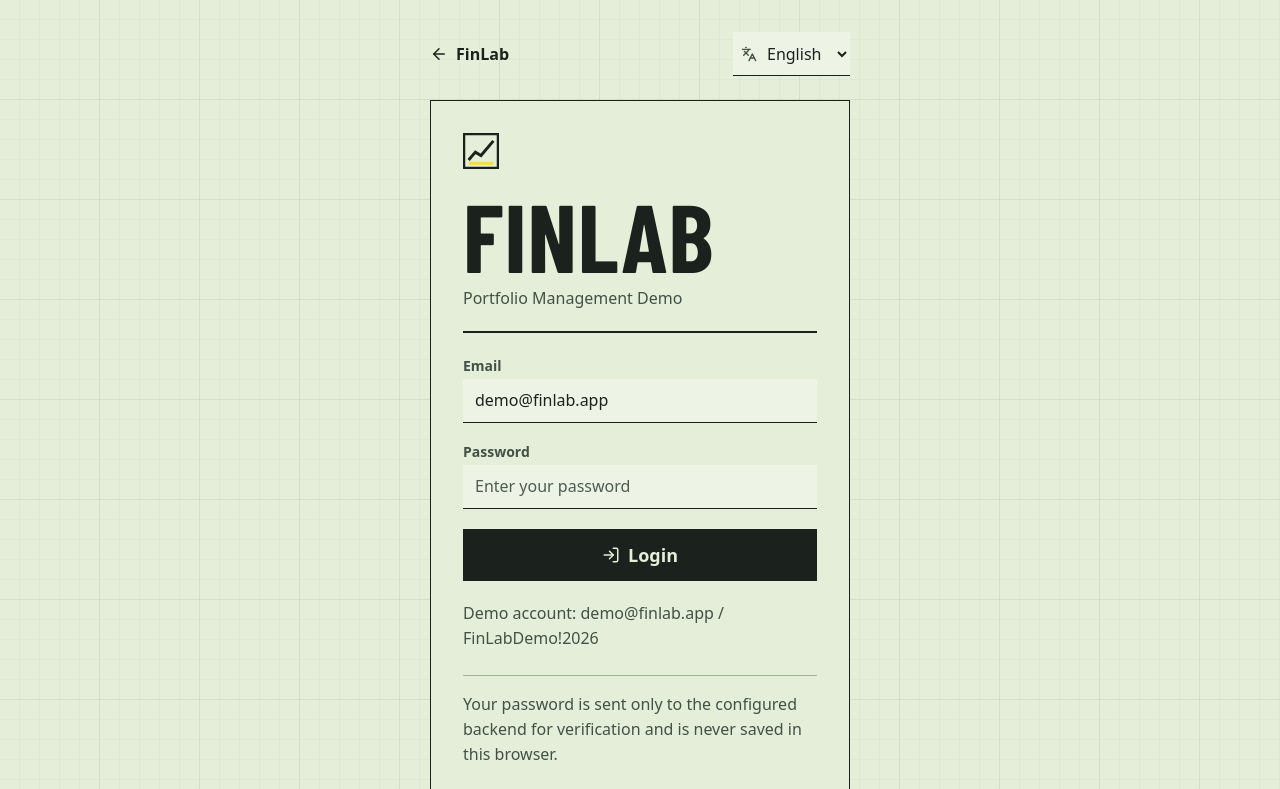
Test: route copy in both languages › labels the live password field, reports errors accessibly, and clears input after submission
The width and height of the screenshot is (1280, 789).
Check: the label "Password" is shown, box [463, 442, 530, 461]
Check: the text with id "login-hint" shows "FinLabDemo!2026", box [463, 602, 724, 649]
Type "rejected-password" into the password field labelled "Password". click: (640, 487)
box: [463, 465, 817, 509]
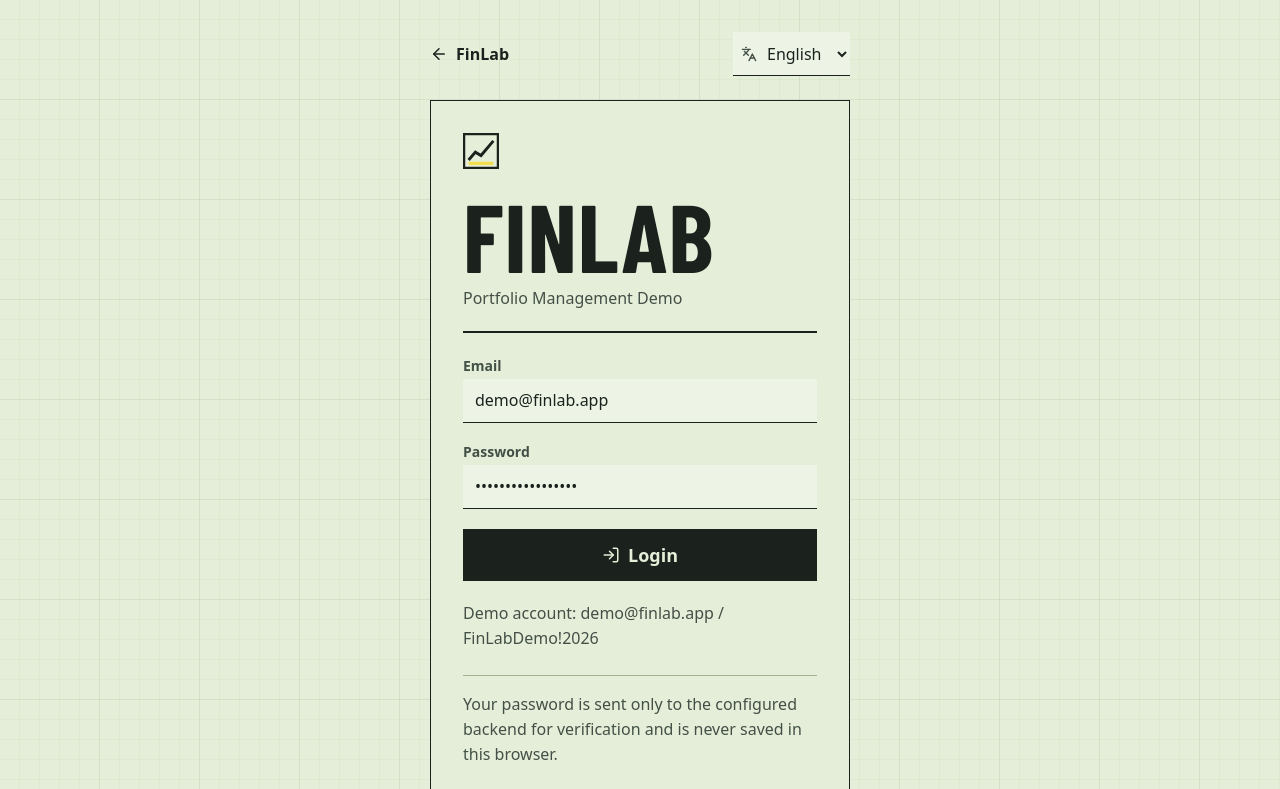
Submit the form, box [463, 357, 817, 651]
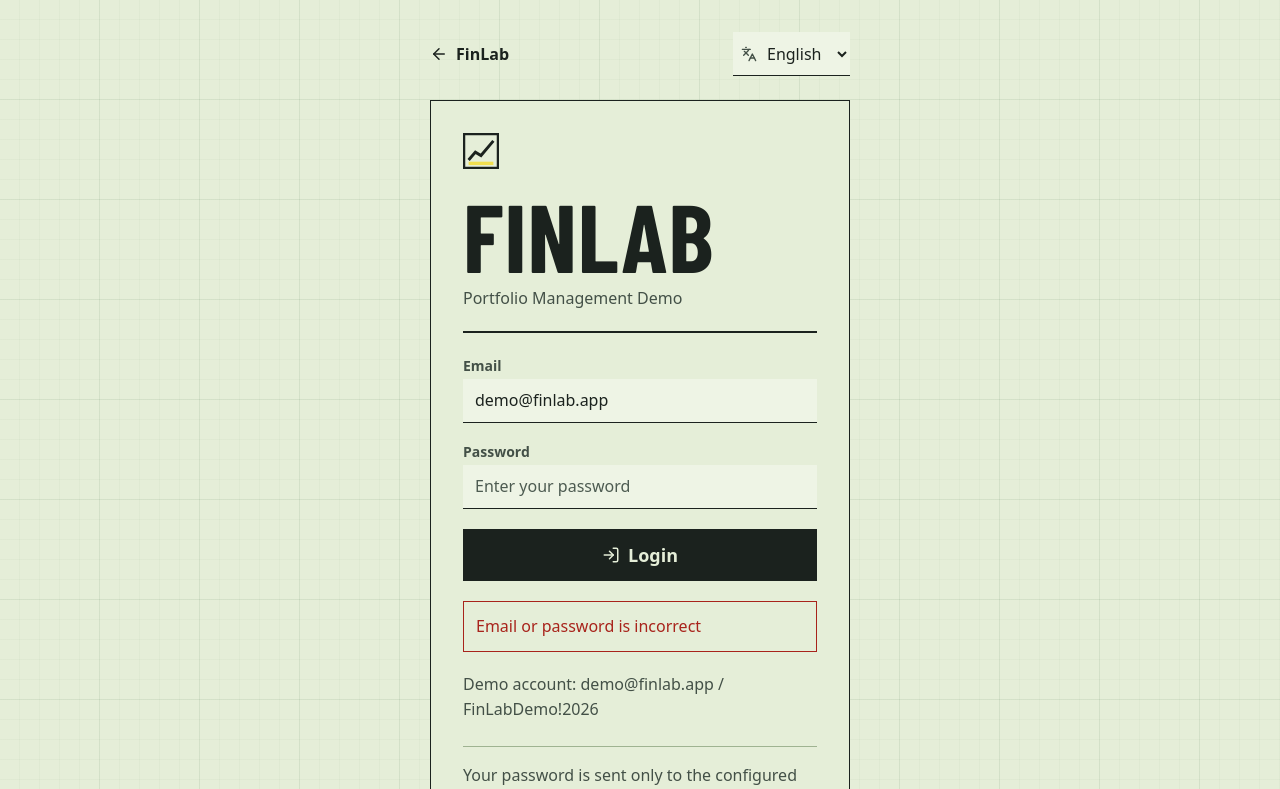
Check: the password field labelled "Password" is empty, box [463, 465, 817, 509]
Check: the message with id "login-error" reads "Email or password is incorrect", box [476, 615, 701, 637]
